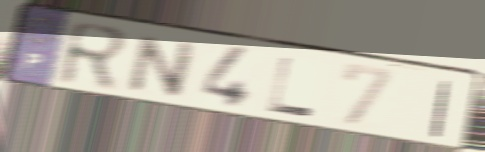4: (198, 41, 254, 113)
7: (337, 61, 398, 131)
I: (428, 78, 455, 140)
L: (265, 54, 318, 120)
N: (122, 33, 202, 100)
R: (54, 18, 133, 95)
